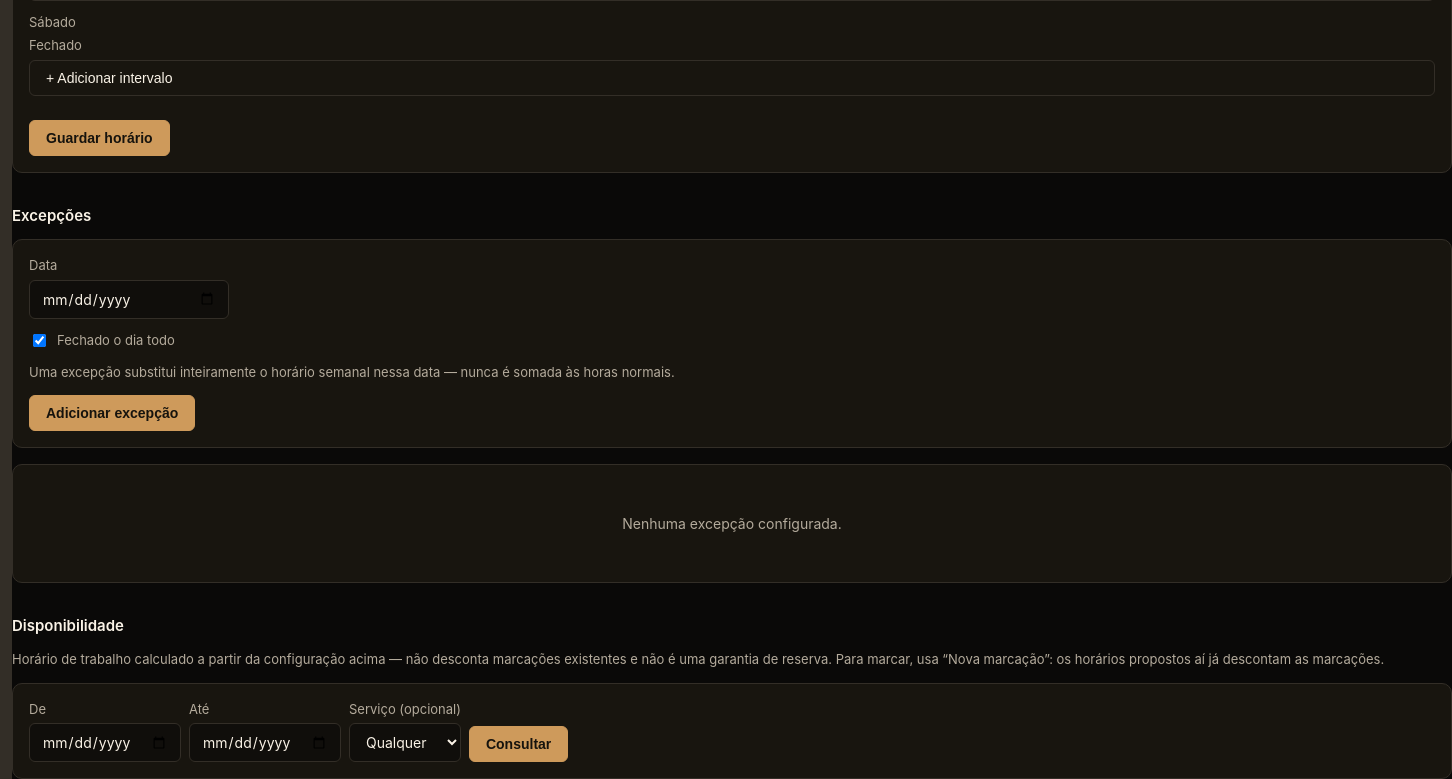
it: ProfessionalDetailPage — availability preview (F26, ADR-041: working availability, not a booking guarantee) › shows a friendly message for TIMEZONE_NOT_CONFIGURED instead of the raw API error
The image size is (1452, 779).
(page scrolled)
Type "2026-09-28" into the date field labelled "De" at (105, 742), box top-left (29, 723), bottom-right (181, 762)
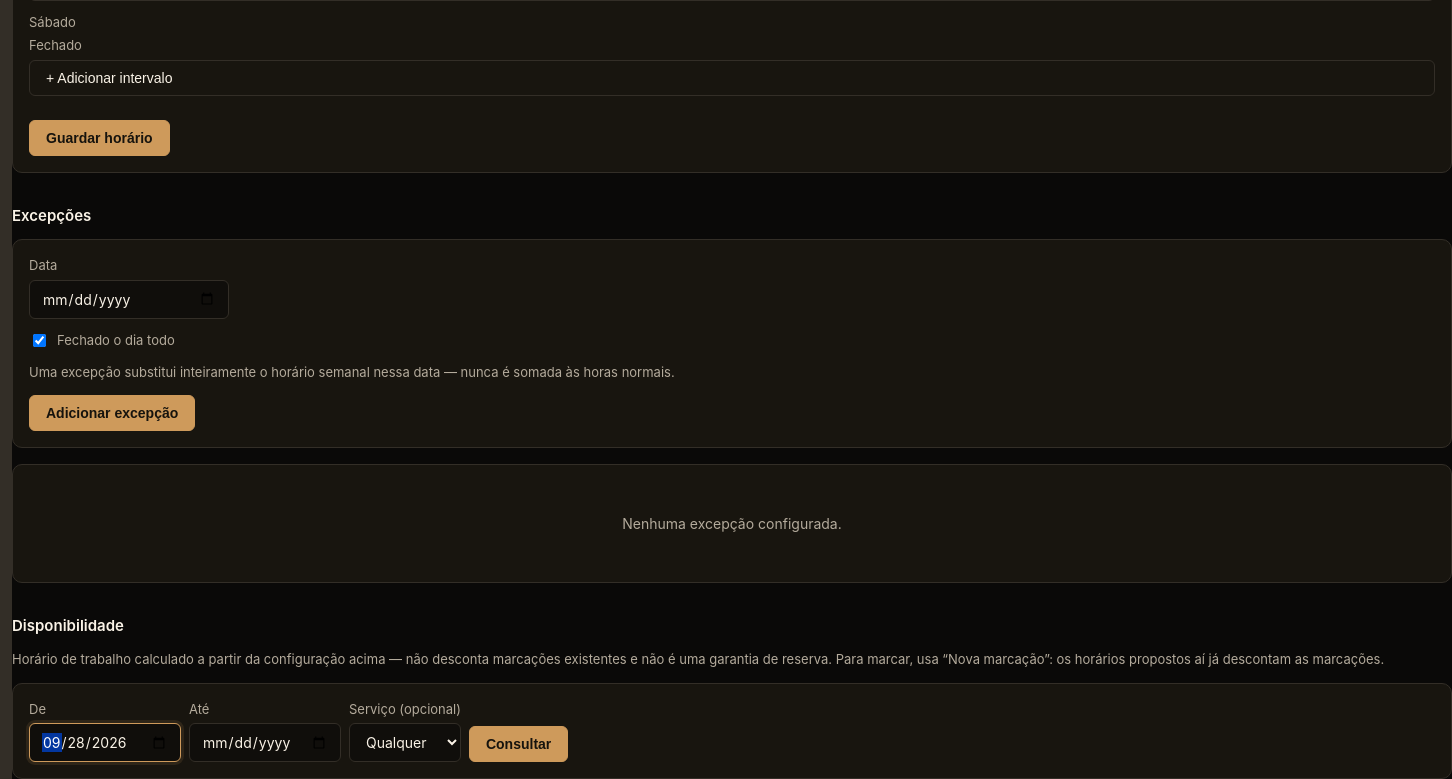
Type "2026-09-28" into the date field labelled "Até" at (265, 742), box top-left (189, 723), bottom-right (341, 762)
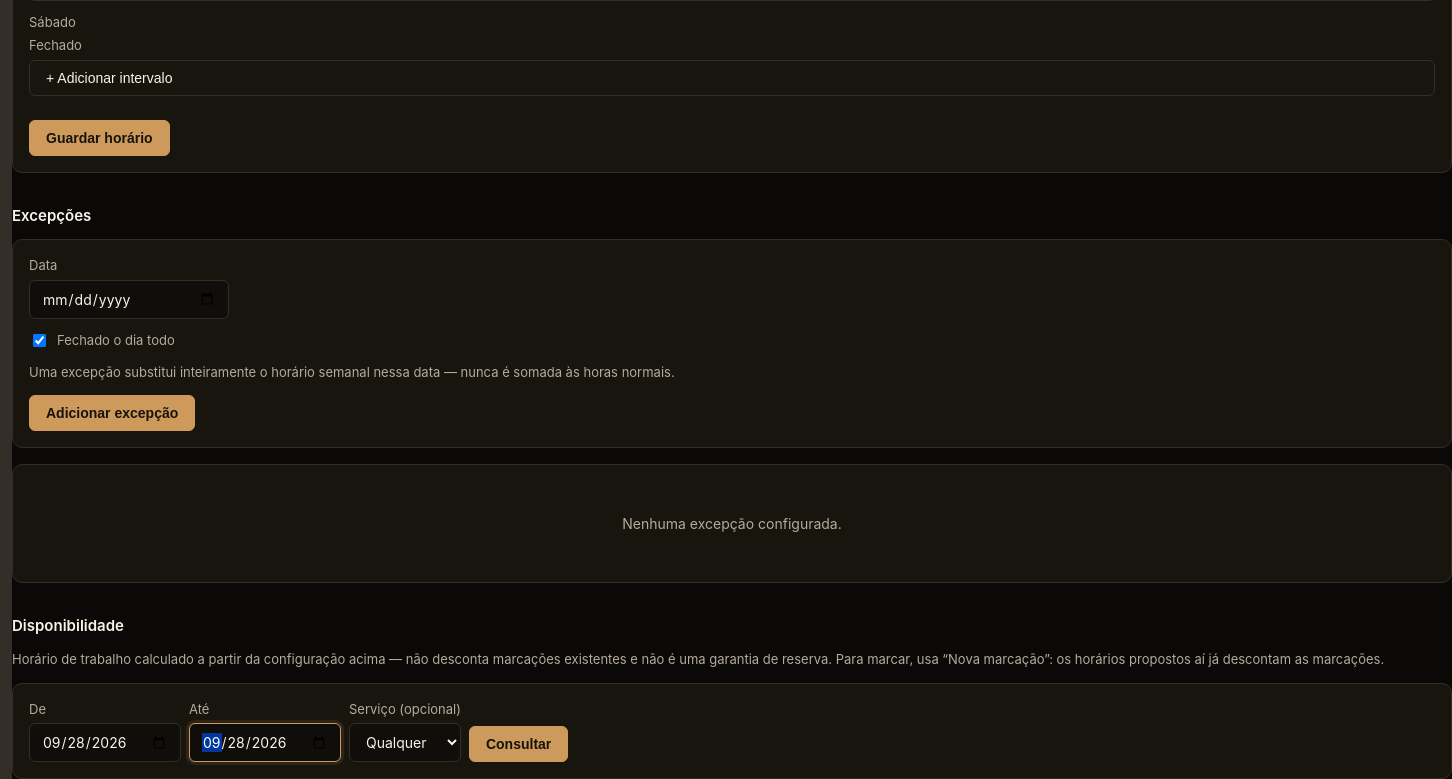
Click the button "Consultar" at (519, 744), box top-left (469, 726), bottom-right (568, 762)
(page scrolled)
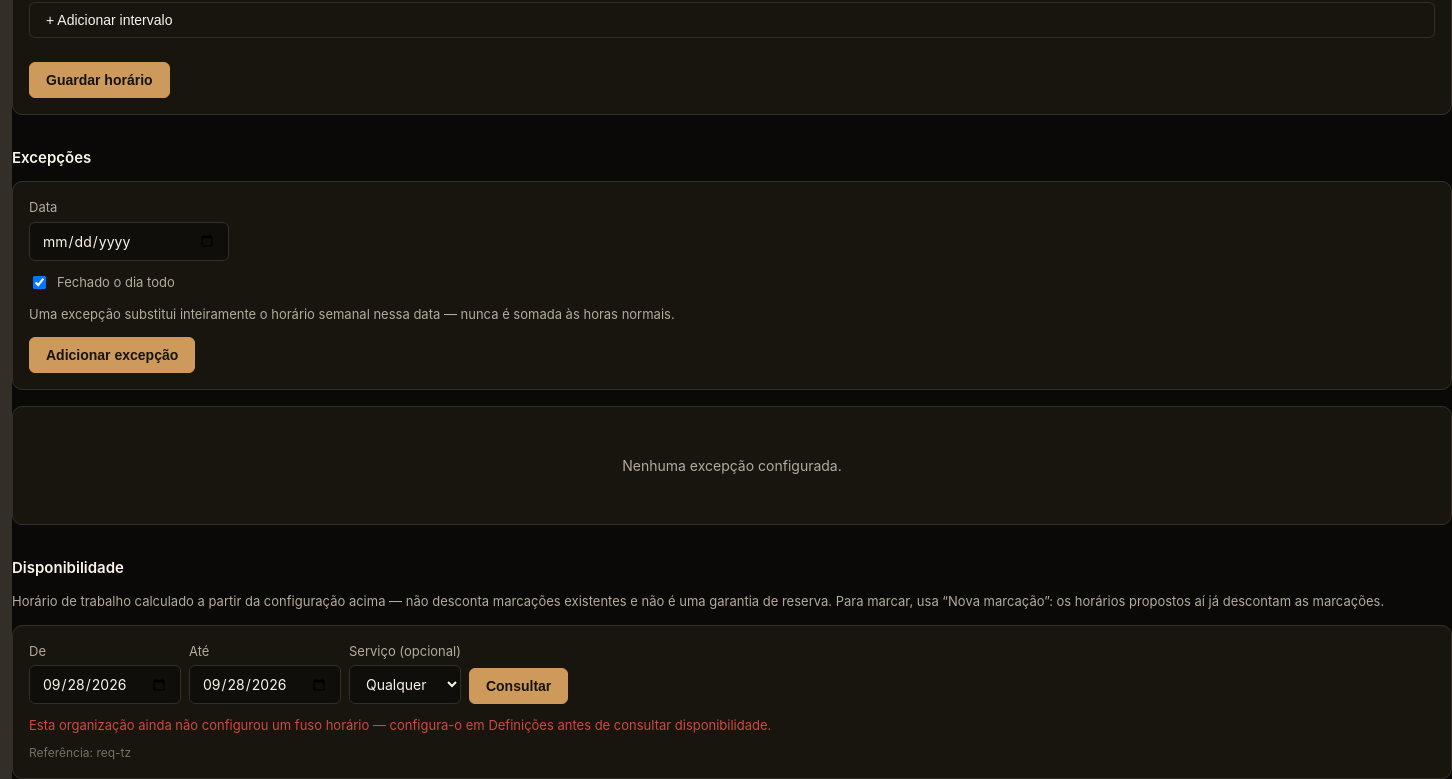
Check: the text "ainda não configurou um fuso horário" is shown, box top-left (29, 717), bottom-right (771, 733)
